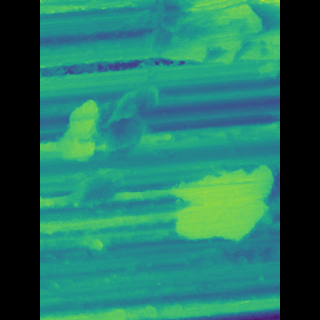Loch: (68, 80, 162, 256), (121, 0, 239, 67), (161, 160, 250, 247), (68, 93, 118, 161)
